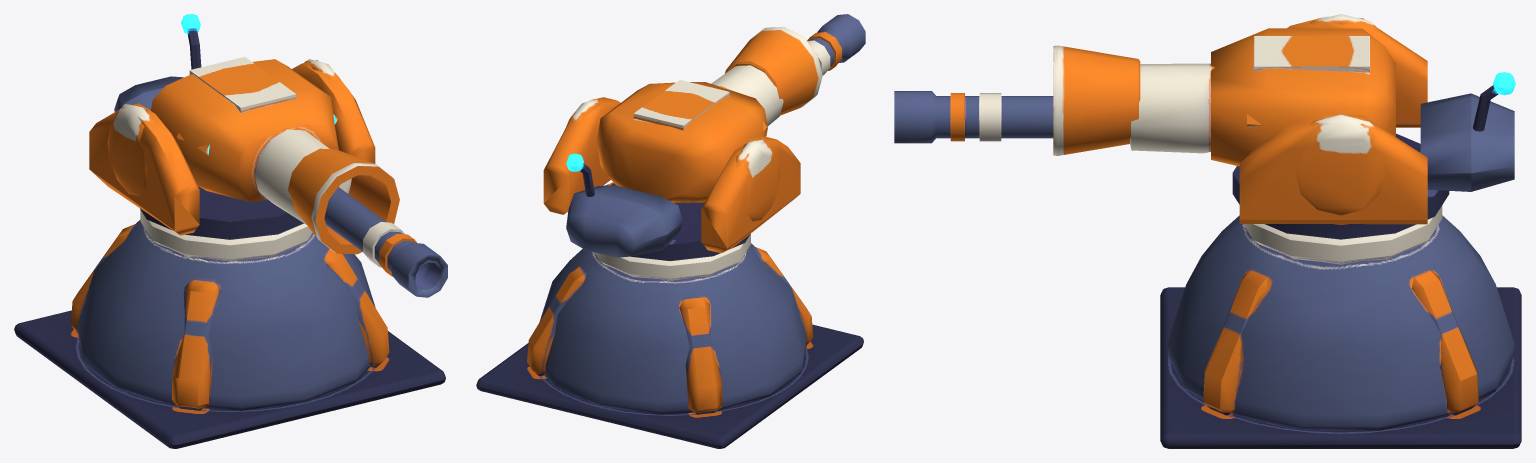
Rendered from R4W_Basic_LOD1.glb.
3 views of the same model, side by side, from view 1: azimuth 30°, elevation 25°; view 2: azimuth 150°, elevation 25°; view 3: azimuth 270°, elevation 25° (orthographic). The views are drawn at different scales.
Visible parts, largest first — view 1: R4W_Basic_LOD1; view 2: R4W_Basic_LOD1; view 3: R4W_Basic_LOD1.
Part boxes in pixels (<box>): R4W_Basic_LOD1: <box>14,14,447,448</box>; R4W_Basic_LOD1: <box>476,14,865,448</box>; R4W_Basic_LOD1: <box>894,14,1521,448</box>.
Size of the model in its own units: 0.5 by 0.4967 by 0.868.
Materials: 4 (4 with a texture image).
